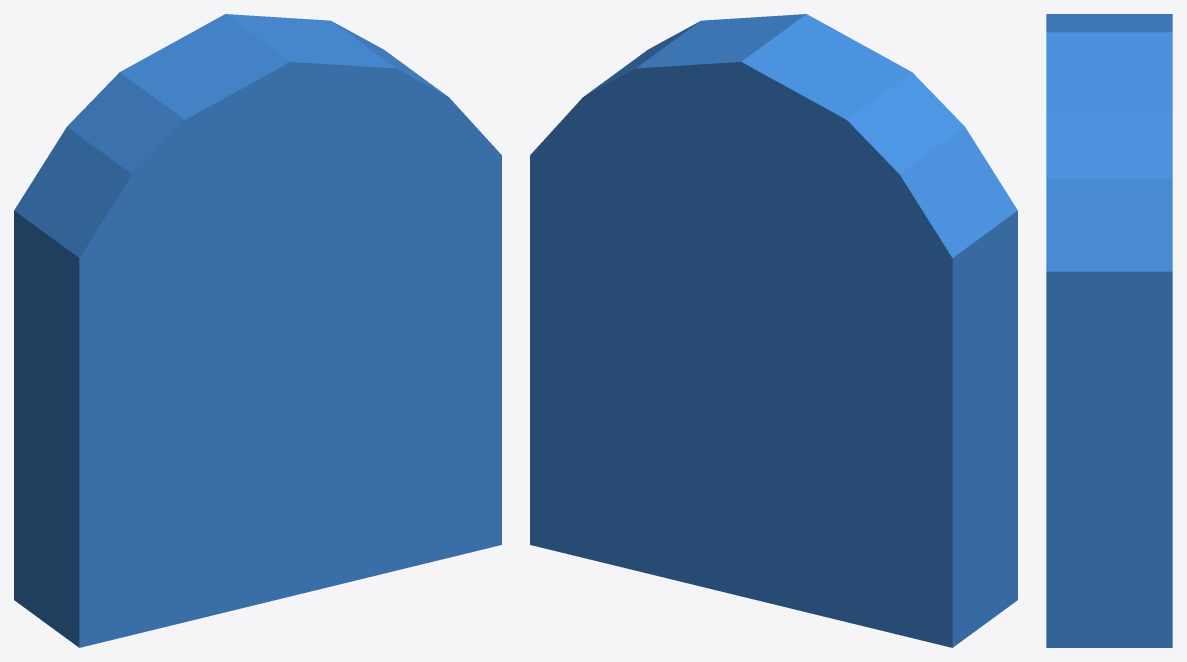
The model's file is Collision_Window_Wide_Round_Rocks.fbx.
The picture shows the model from 3 angles, left to right: view 1: azimuth 30°, elevation 25°; view 2: azimuth 150°, elevation 25°; view 3: azimuth 270°, elevation 25°; orthographic projection. The views are drawn at different scales.
Visible parts, largest first — view 1: UCX_Window_Wide_Round_Rocks_1; view 2: UCX_Window_Wide_Round_Rocks_1; view 3: UCX_Window_Wide_Round_Rocks_1.
Part boxes in pixels (x1,y1,x2,y2): UCX_Window_Wide_Round_Rocks_1: [14, 14, 501, 647]; UCX_Window_Wide_Round_Rocks_1: [530, 14, 1017, 647]; UCX_Window_Wide_Round_Rocks_1: [1046, 14, 1172, 647].
Size of the model in its own units: 150 by 181 by 40.14.
